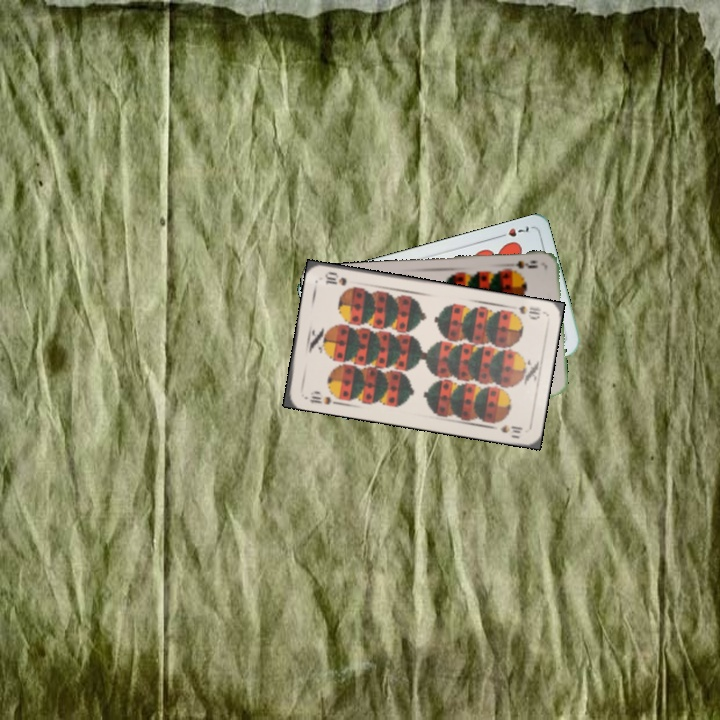H7: (494, 222, 532, 241)
S10: (514, 302, 543, 322), (300, 392, 334, 407)
S9: (504, 256, 540, 275)
